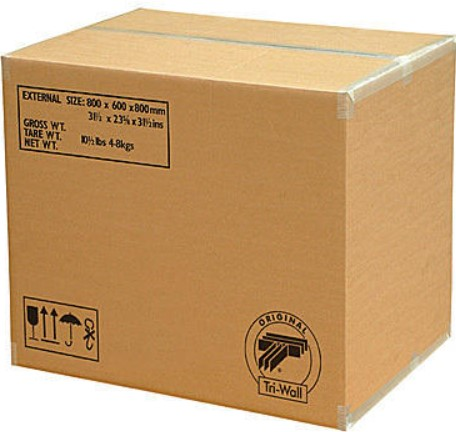stock: (2, 8, 456, 431)
